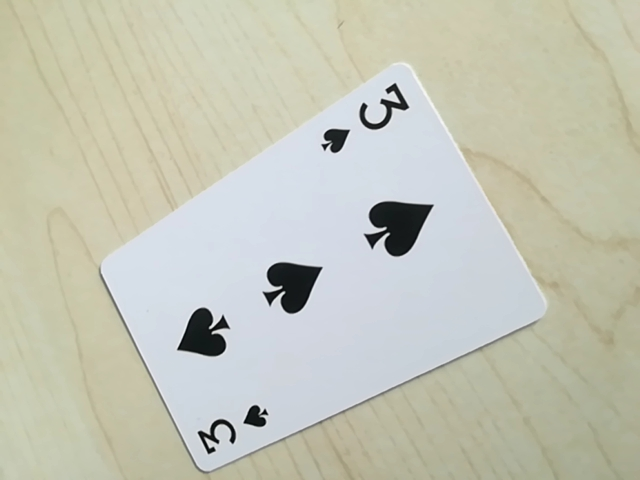ht 3: (306, 80, 415, 159), (187, 401, 275, 464)
